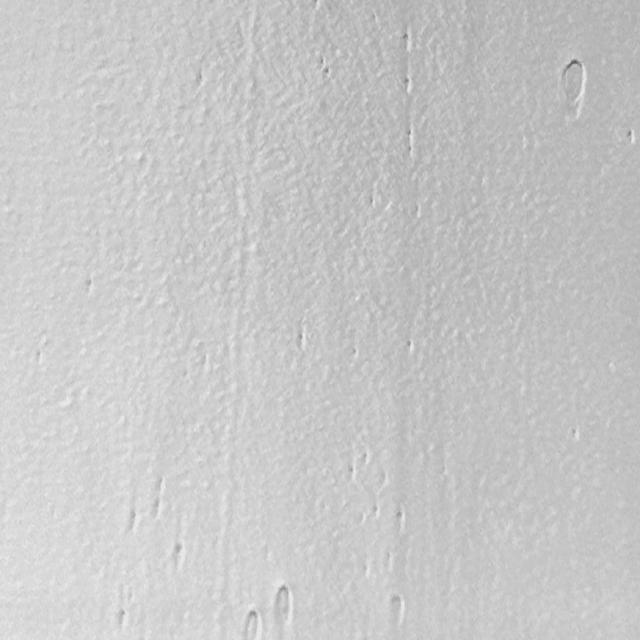pin holes: (555, 57, 589, 118), (272, 583, 297, 630), (242, 608, 264, 639), (388, 595, 408, 627), (170, 541, 189, 570), (114, 606, 132, 631), (401, 127, 417, 155), (292, 328, 309, 353), (125, 509, 142, 534), (398, 31, 416, 54), (80, 276, 97, 300), (392, 508, 407, 533), (191, 69, 208, 91), (402, 337, 419, 358), (383, 551, 398, 573), (400, 75, 415, 96), (624, 126, 638, 148), (345, 463, 358, 484), (367, 193, 382, 211), (568, 426, 582, 445), (346, 345, 359, 364), (360, 448, 372, 468), (361, 563, 373, 582), (322, 64, 335, 80), (314, 52, 326, 67), (310, 0, 322, 11)
